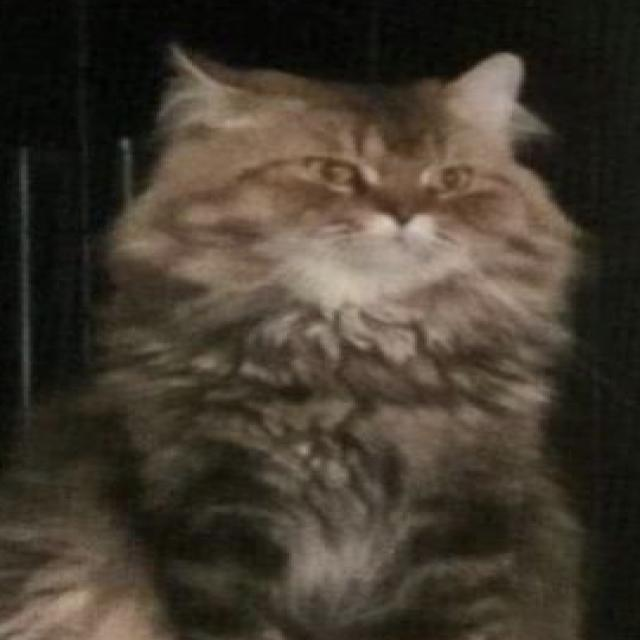Maine Coon: (0, 37, 590, 640)
